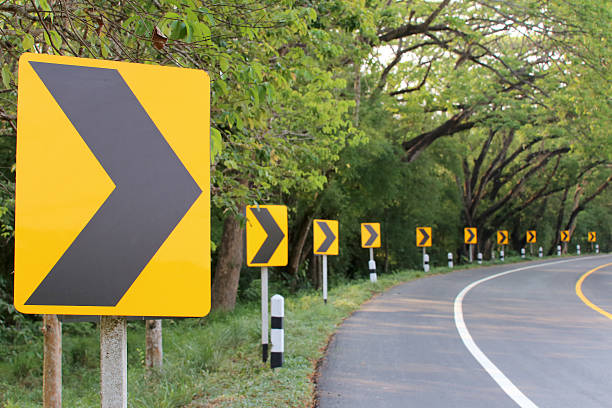right turn: (18, 54, 209, 315), (246, 205, 287, 265), (313, 218, 338, 255), (360, 223, 380, 247), (416, 227, 431, 247), (464, 226, 477, 244), (496, 230, 508, 245), (526, 230, 536, 243), (588, 230, 597, 243), (561, 230, 570, 241)
